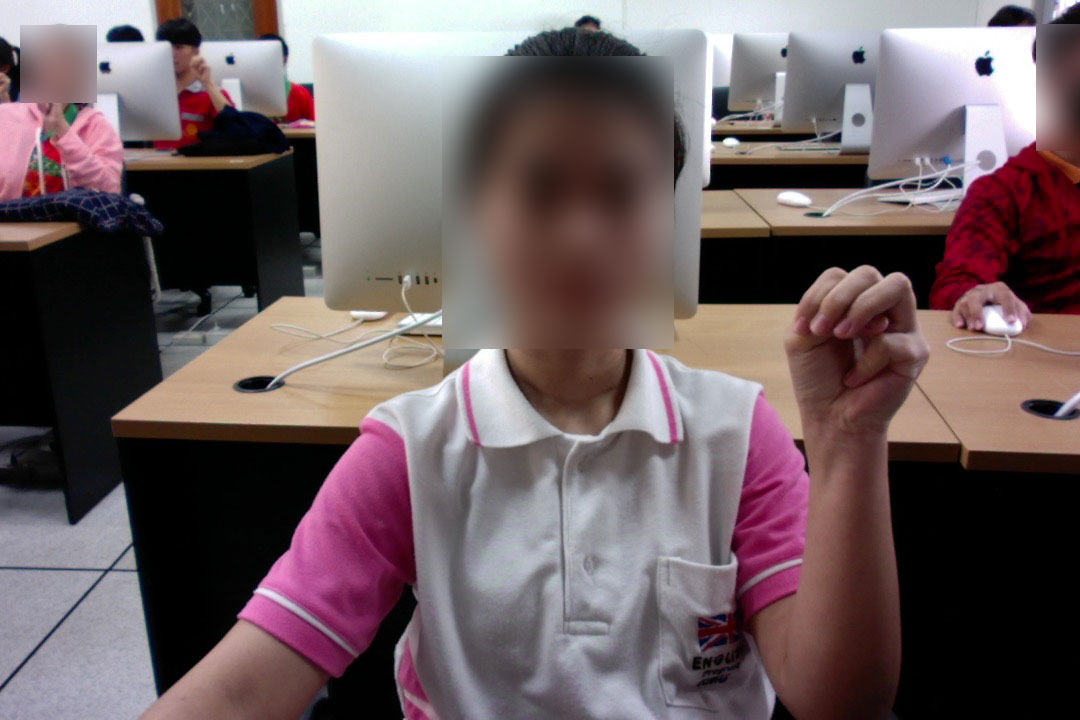mor: (781, 253, 934, 454)
